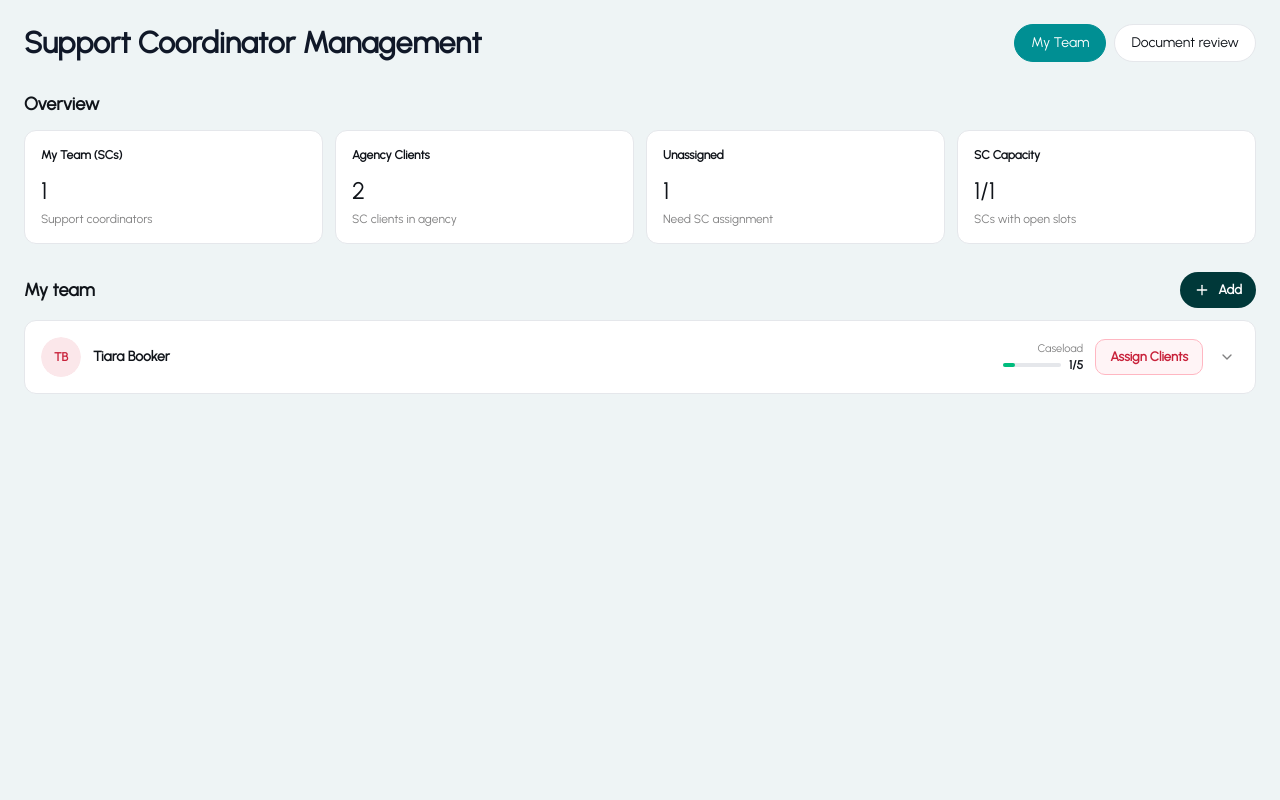
Test: SupportCoordinatorManagement › loads available clients when assignment opens and keeps the current caseload selectable
Later steps or results of the test are not shown.
Expected: the text "1/5" is shown, 1069,357 -> 1083,373
Click the button "Assign Clients".
click(1149, 357)  # box 1095,339 -> 1203,375
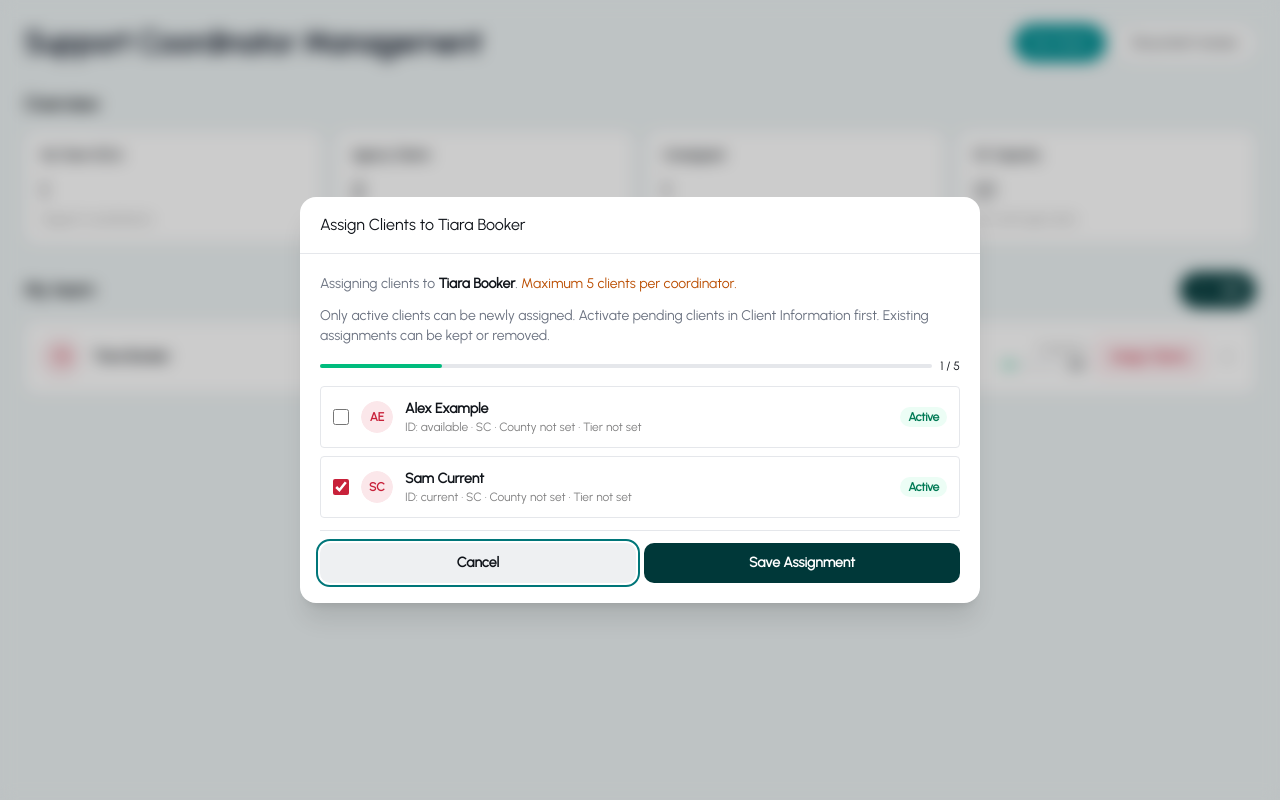
Now the checkbox named "Assign Alex Example" is shown, box 333,409 -> 349,425
Now the checkbox named "Assign Sam Current" is checked, box 333,479 -> 349,495
